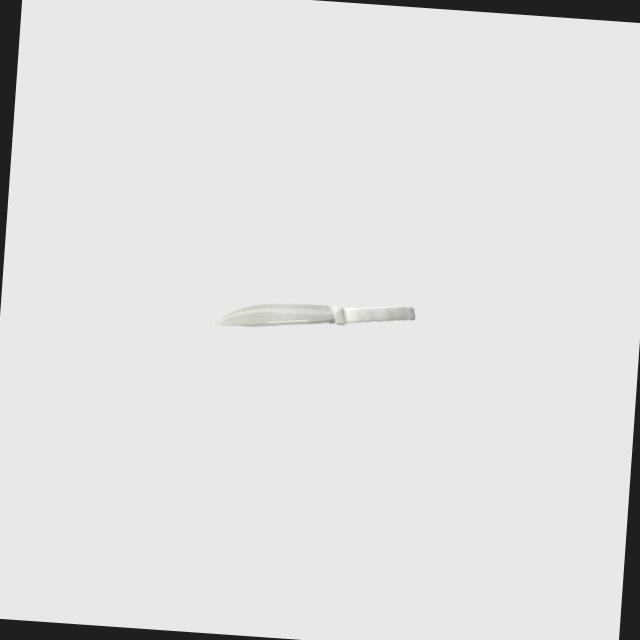knife: (332, 299, 416, 329)
